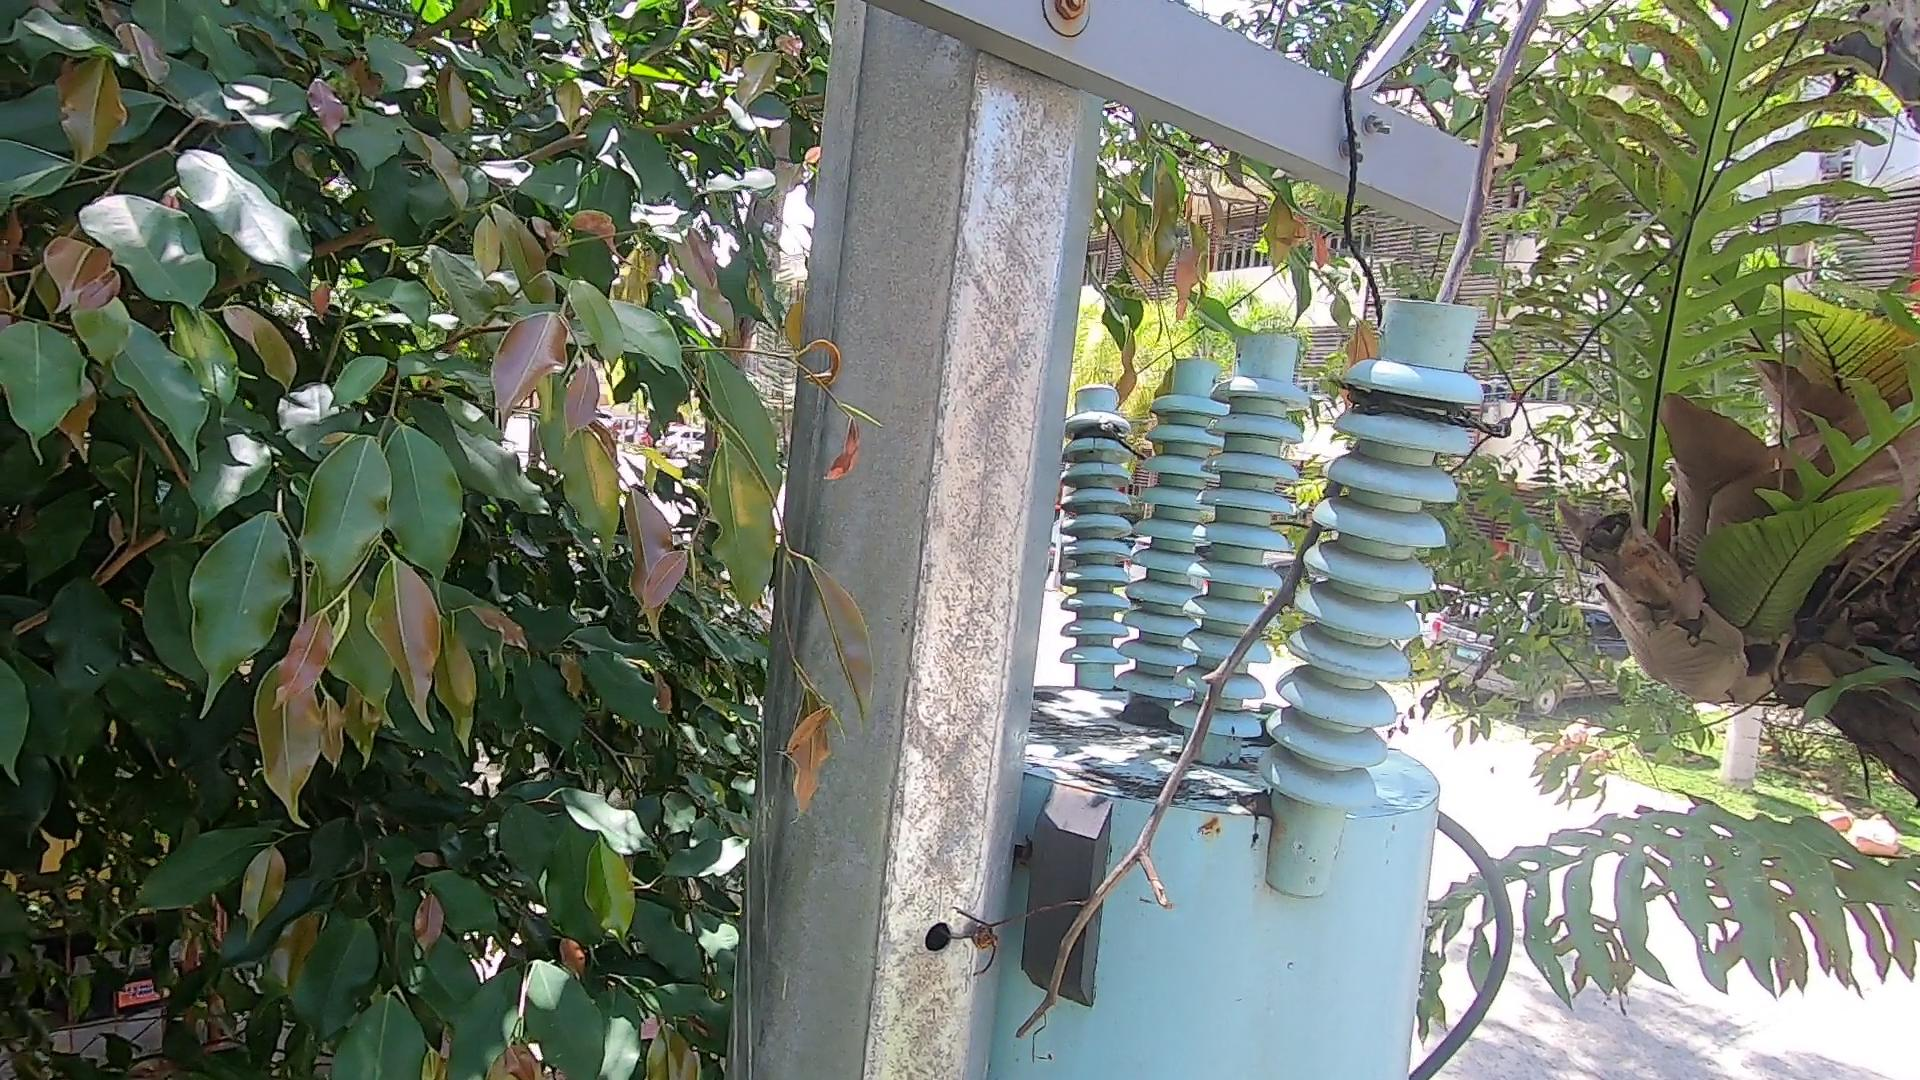branch with leaves: (1097, 177, 1385, 419)
leaf: (1224, 775, 1276, 829), (1110, 694, 1179, 735)
tree branch: (996, 30, 1563, 1052)
